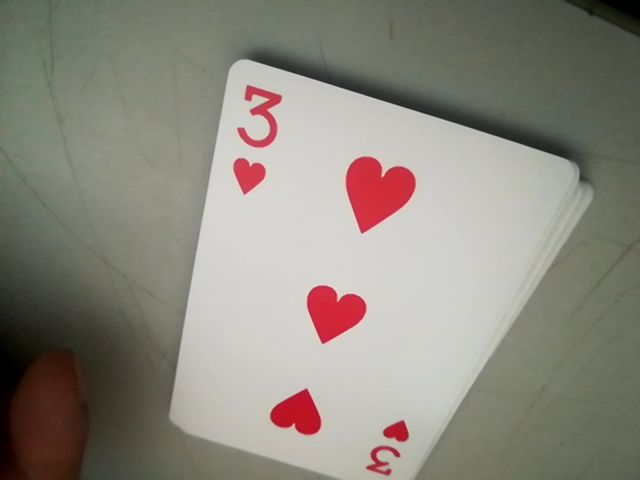hx 3: (219, 74, 289, 203)
